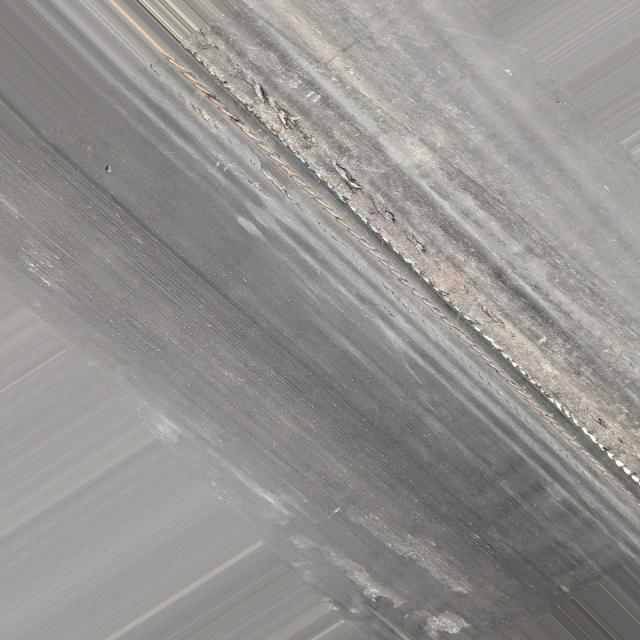Wear: (150, 14, 640, 512)
